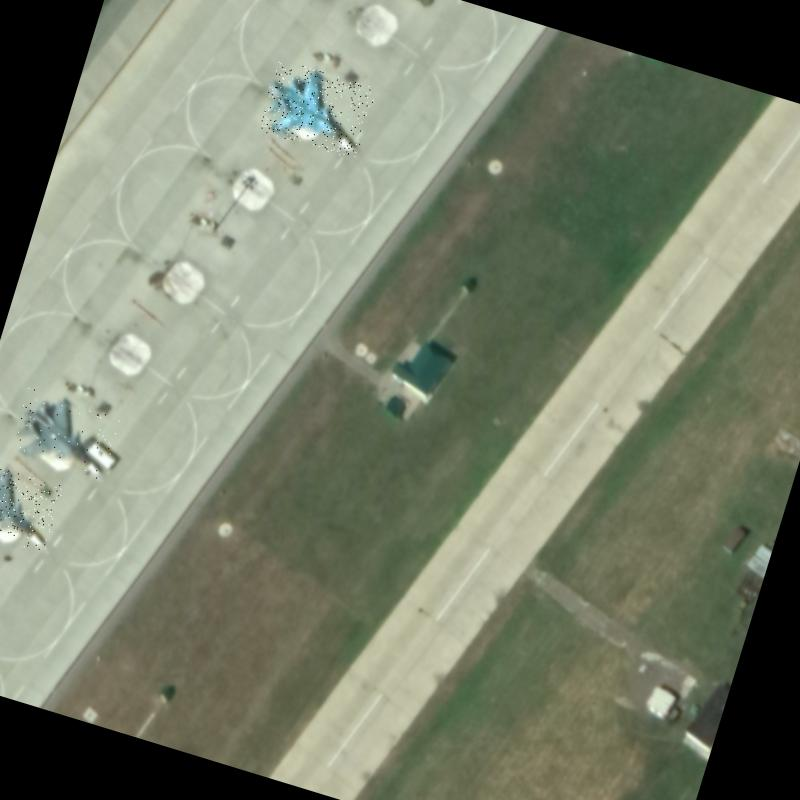A19: (257, 58, 377, 160), (9, 386, 123, 480), (0, 458, 65, 554)
